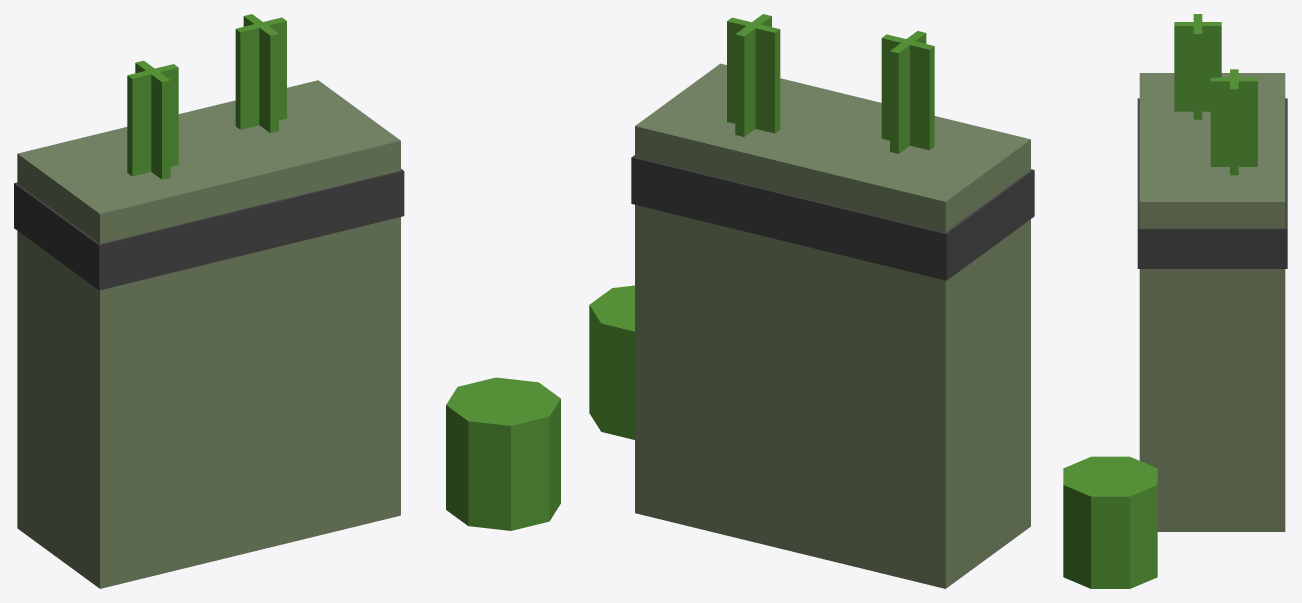
Rendered from ce_ammo2_boltjar_venom_b.obj.
3 views of the same model, side by side, from view 1: azimuth 30°, elevation 25°; view 2: azimuth 150°, elevation 25°; view 3: azimuth 270°, elevation 25° (orthographic). The views are drawn at different scales.
Parts seen in each view (by area): view 1: ce_ammo2_boltjar_venom_b_0, ce_ammo2_boltjar_venom_b_1, ce_ammo2_boltjar_venom_b_6, ce_ammo2_boltjar_venom_b_2, ce_ammo2_boltjar_venom_b_4, ce_ammo2_boltjar_venom_b_3, ce_ammo2_boltjar_venom_b_5; view 2: ce_ammo2_boltjar_venom_b_0, ce_ammo2_boltjar_venom_b_1, ce_ammo2_boltjar_venom_b_6, ce_ammo2_boltjar_venom_b_4, ce_ammo2_boltjar_venom_b_2, ce_ammo2_boltjar_venom_b_5, ce_ammo2_boltjar_venom_b_3; view 3: ce_ammo2_boltjar_venom_b_0, ce_ammo2_boltjar_venom_b_6, ce_ammo2_boltjar_venom_b_1, ce_ammo2_boltjar_venom_b_5, ce_ammo2_boltjar_venom_b_3, ce_ammo2_boltjar_venom_b_2, ce_ammo2_boltjar_venom_b_4.
Boxes of the visible parts, x1,y1,x2,y2 form: ce_ammo2_boltjar_venom_b_0: [17, 80, 400, 588]; ce_ammo2_boltjar_venom_b_1: [14, 169, 404, 290]; ce_ammo2_boltjar_venom_b_6: [446, 377, 560, 530]; ce_ammo2_boltjar_venom_b_2: [127, 64, 178, 176]; ce_ammo2_boltjar_venom_b_4: [235, 17, 286, 129]; ce_ammo2_boltjar_venom_b_3: [135, 60, 170, 179]; ce_ammo2_boltjar_venom_b_5: [243, 14, 278, 132]; ce_ammo2_boltjar_venom_b_0: [635, 63, 1030, 588]; ce_ammo2_boltjar_venom_b_1: [631, 155, 1034, 280]; ce_ammo2_boltjar_venom_b_6: [589, 285, 634, 439]; ce_ammo2_boltjar_venom_b_4: [727, 17, 780, 133]; ce_ammo2_boltjar_venom_b_2: [881, 34, 934, 150]; ce_ammo2_boltjar_venom_b_5: [735, 14, 771, 136]; ce_ammo2_boltjar_venom_b_3: [890, 31, 926, 153]; ce_ammo2_boltjar_venom_b_0: [1139, 73, 1285, 531]; ce_ammo2_boltjar_venom_b_6: [1063, 456, 1157, 588]; ce_ammo2_boltjar_venom_b_1: [1137, 98, 1287, 268]; ce_ammo2_boltjar_venom_b_5: [1210, 77, 1257, 166]; ce_ammo2_boltjar_venom_b_3: [1174, 22, 1221, 111]; ce_ammo2_boltjar_venom_b_2: [1193, 14, 1202, 119]; ce_ammo2_boltjar_venom_b_4: [1230, 69, 1238, 175].
Size of the model in its own units: 0.6077 by 0.63 by 0.3077.
